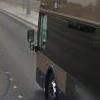Bus: (22, 0, 96, 99)
